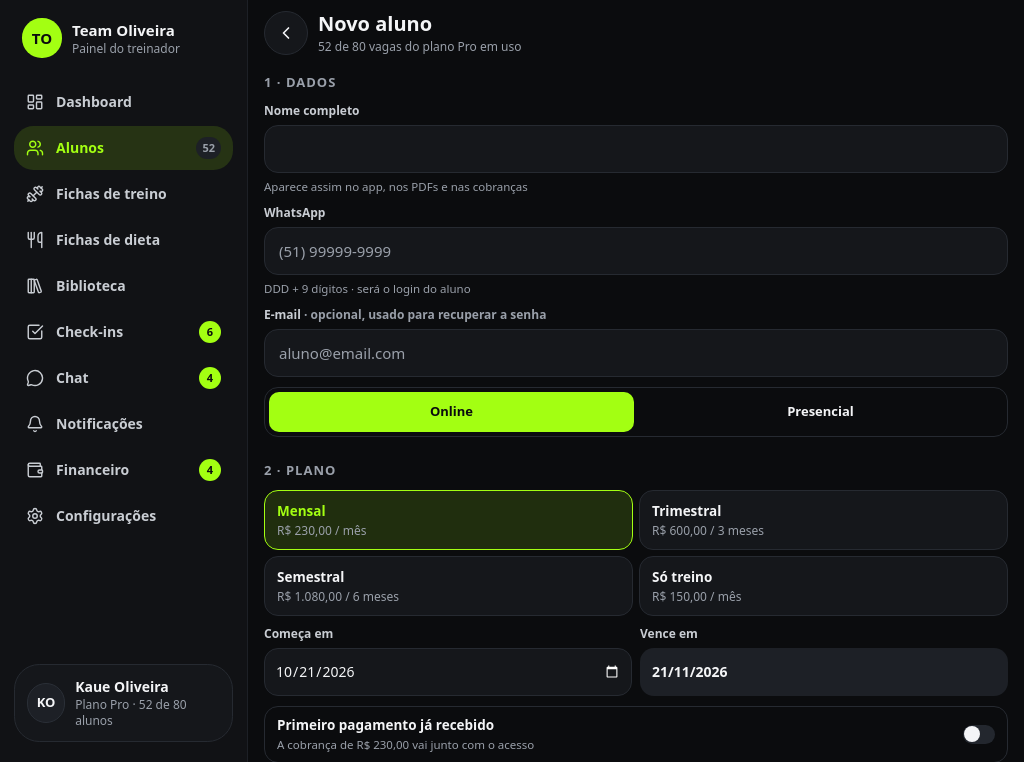
Test case: Novo aluno › pede nome e sobrenome e o WhatsApp com DDD
This screenshot has width=1024, height=762.
Type "Joana" into the field labelled "Nome completo" at (636, 148), box top-left (264, 124), bottom-right (1008, 172)
(page scrolled)
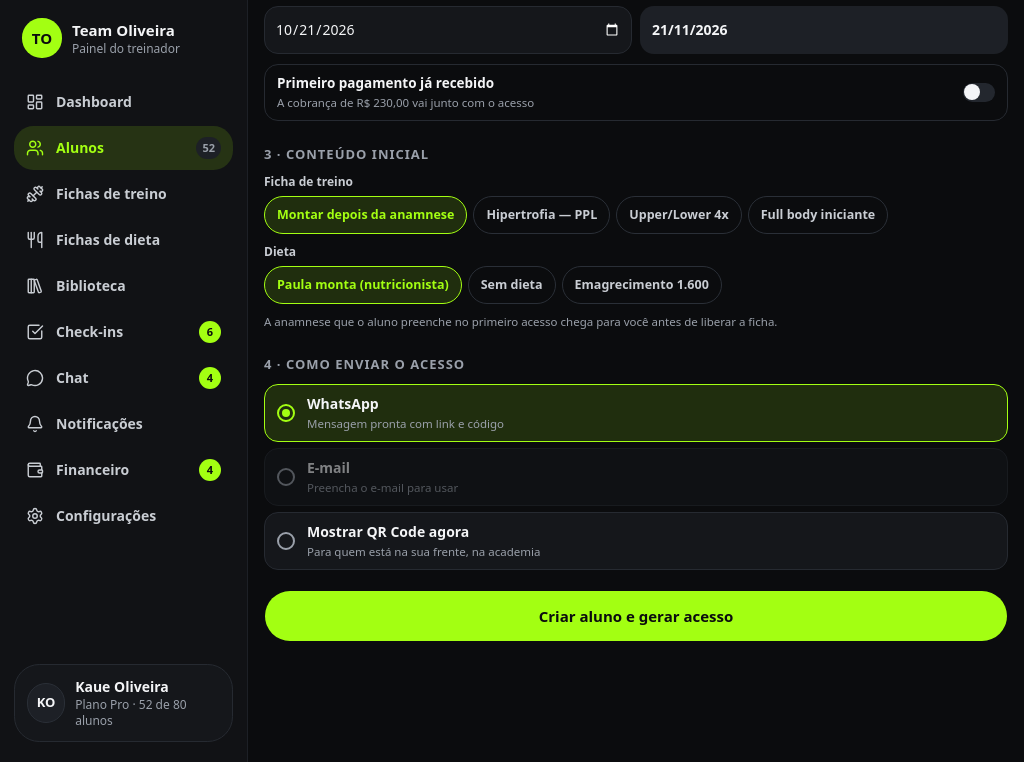
Click the button "Criar aluno e gerar acesso" at (636, 616), box top-left (264, 590), bottom-right (1008, 642)
(page scrolled)
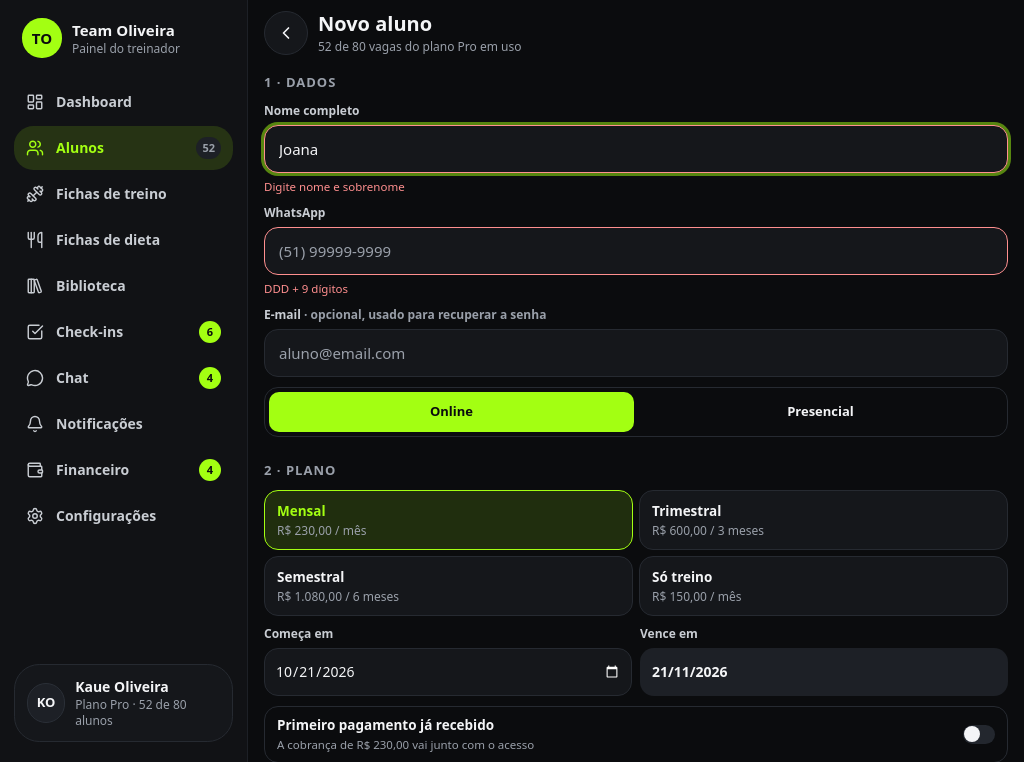
Expected: the text "DDD + 9 dígitos" is shown, top-left (264, 281), bottom-right (348, 296)
Expected: the text "Digite nome e sobrenome" is shown, top-left (264, 178), bottom-right (405, 194)
